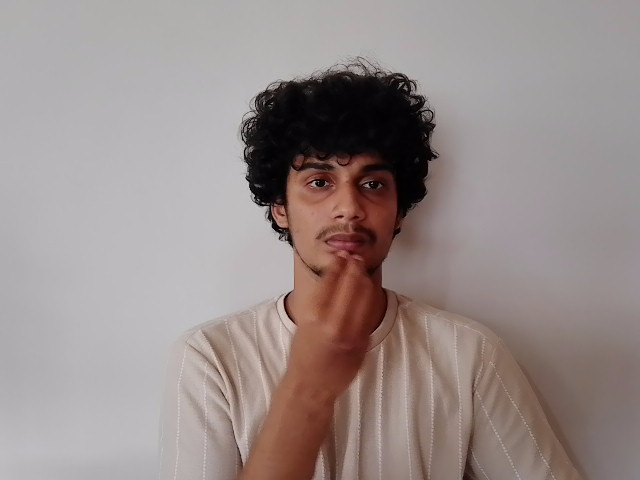eat: (271, 146, 404, 387)
